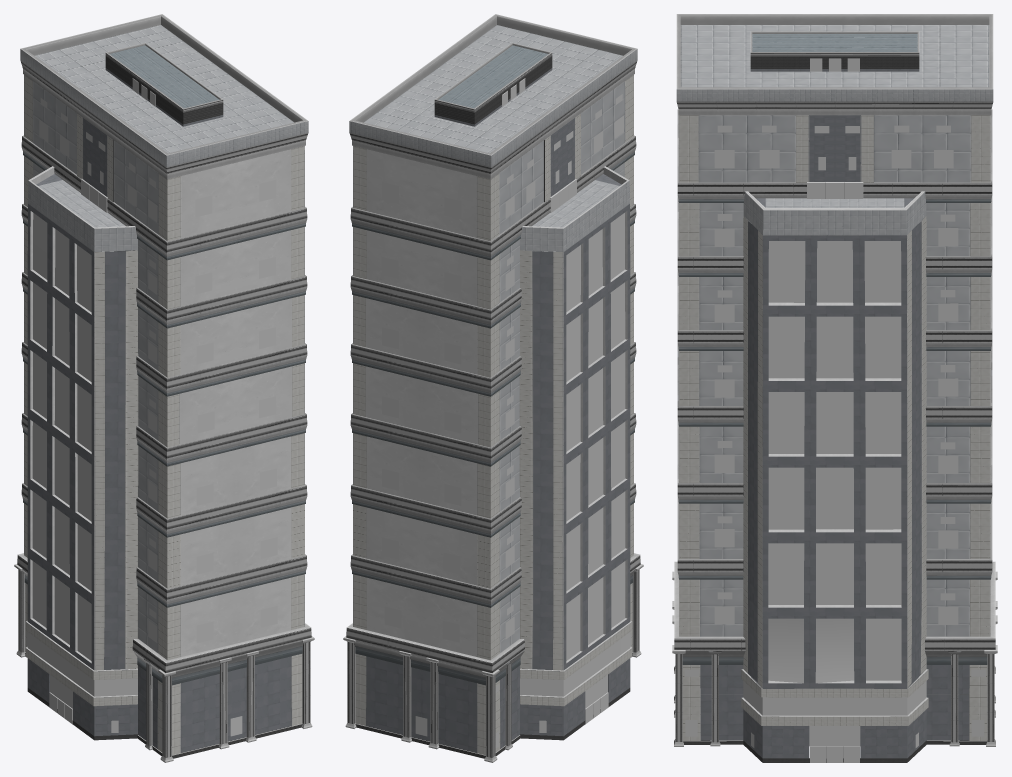
The model's file is House_GP.fbx.
The picture shows the model from 3 angles, left to right: view 1: azimuth 30°, elevation 25°; view 2: azimuth 150°, elevation 25°; view 3: azimuth 270°, elevation 25°; orthographic projection. The views are drawn at different scales.
Parts seen in each view (by area): view 1: House_GP; view 2: House_GP; view 3: House_GP.
Boxes of the visible parts, x1,y1,x2,y2 form: House_GP: (14,14,314,762); House_GP: (343,14,643,762); House_GP: (672,14,997,762).
Size of what is drawn, in the model's own units: 38.07 by 106 by 46.85.
